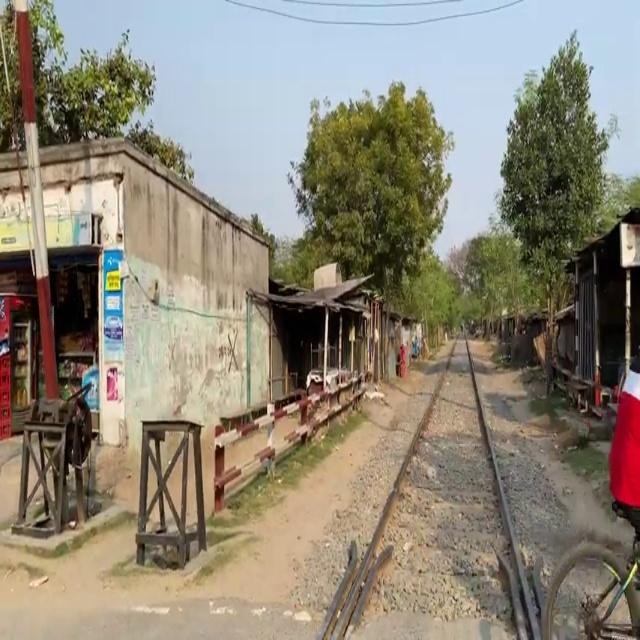Construction-barrier: (0, 497, 131, 557)
Garbage: (10, 383, 98, 538), (134, 418, 206, 569)
Obstacle: (327, 333, 534, 640)
